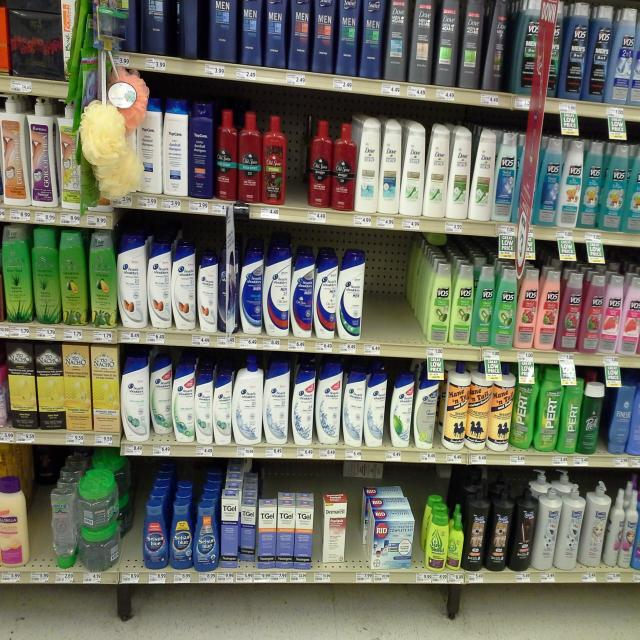void: (395, 230, 426, 365), (115, 475, 143, 588), (369, 238, 394, 359)
